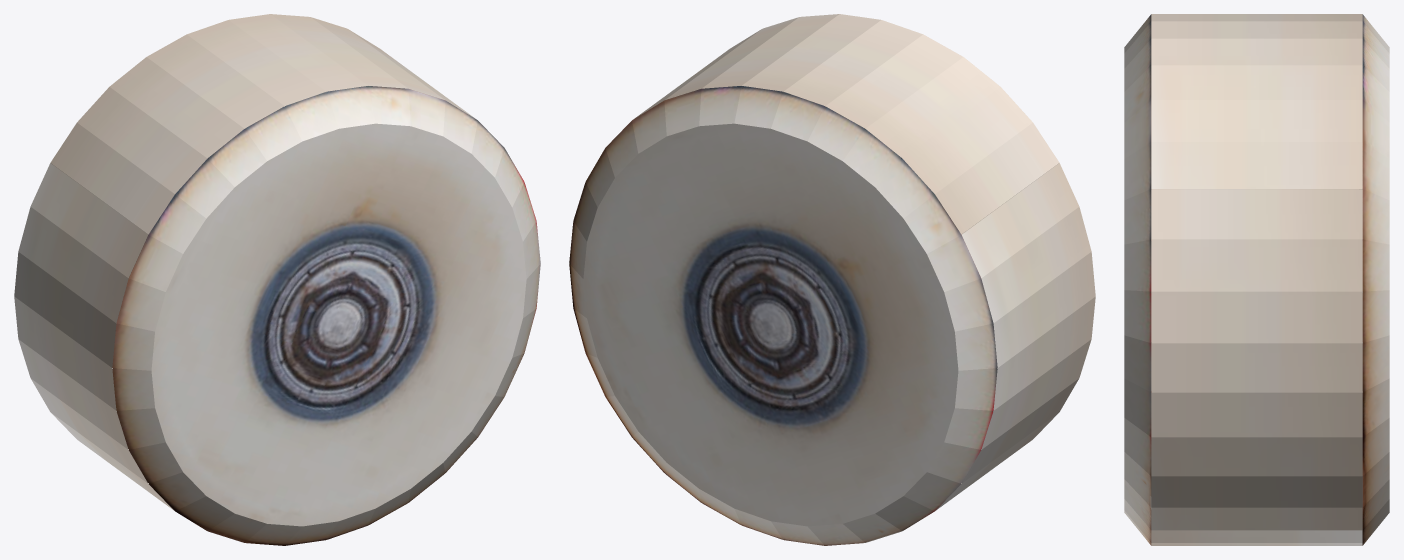
The model's file is wheel.fbx.
3 renders of one model, left to right at view 1: azimuth 30°, elevation 25°; view 2: azimuth 150°, elevation 25°; view 3: azimuth 270°, elevation 25°, orthographic. The views are drawn at different scales.
Visible parts, largest first — view 1: Wheel; view 2: Wheel; view 3: Wheel.
Part boxes in pixels (bbox=[...]): Wheel: bbox=[14, 14, 540, 545]; Wheel: bbox=[569, 14, 1095, 545]; Wheel: bbox=[1124, 14, 1389, 545].
Size of the model in its own units: 83.26 by 83.26 by 41.44.
